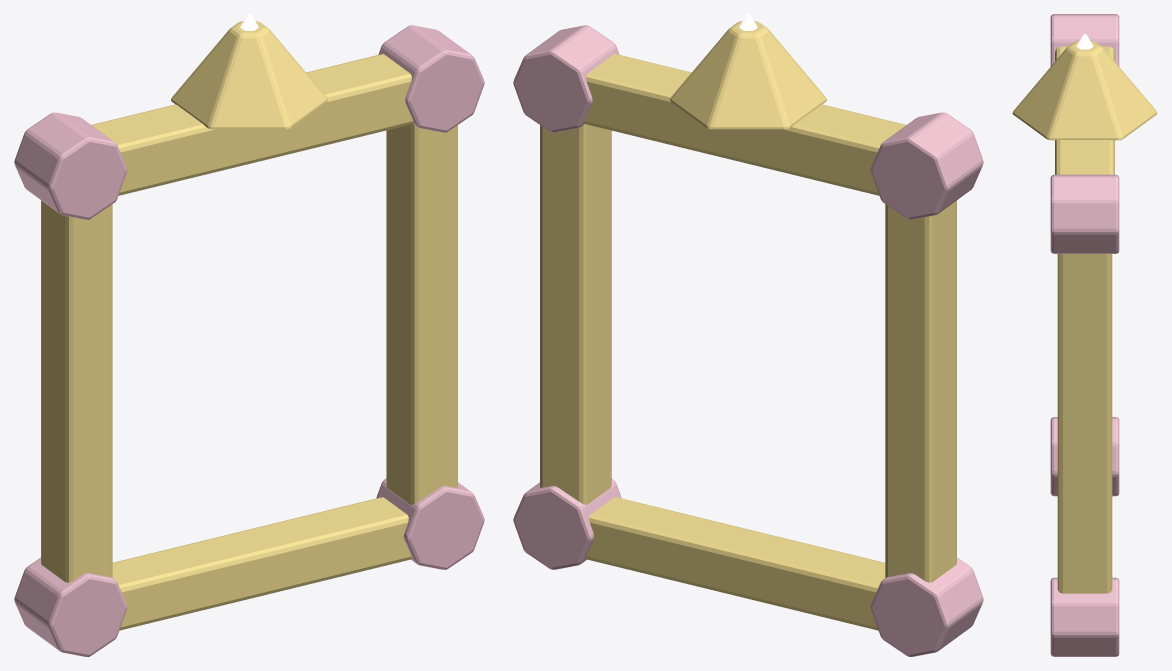
File: gilded_portal_frame.glb
3 renders of one model, left to right at view 1: azimuth 30°, elevation 25°; view 2: azimuth 150°, elevation 25°; view 3: azimuth 270°, elevation 25°, orthographic. The views are drawn at different scales.
Parts seen in each view (by area): view 1: BarR, BarL, BarBot, BarTop, Crest, Corner_-2.15_4.88, Corner_-2.15_-0.15, Corner_2.15_4.88, Corner_2.15_-0.15; view 2: BarR, BarL, BarBot, BarTop, Crest, Corner_-2.15_4.88, Corner_-2.15_-0.15, Corner_2.15_4.88, Corner_2.15_-0.15; view 3: BarR, Crest, Corner_2.15_4.88, Corner_2.15_-0.15, Corner_-2.15_4.88, BarTop, Corner_-2.15_-0.15.
Boxes of the visible parts, <box> form: BarR: <box>386,124,457,504</box>; BarL: <box>41,200,112,582</box>; BarBot: <box>112,497,411,630</box>; BarTop: <box>91,54,413,195</box>; Crest: <box>171,21,327,129</box>; Corner_-2.15_4.88: <box>14,112,127,219</box>; Corner_-2.15_-0.15: <box>14,557,127,656</box>; Corner_2.15_4.88: <box>378,25,484,132</box>; Corner_2.15_-0.15: <box>376,478,484,569</box>; BarR: <box>540,124,611,504</box>; BarL: <box>885,200,956,582</box>; BarBot: <box>586,497,885,630</box>; BarTop: <box>584,54,906,195</box>; Crest: <box>670,21,826,129</box>; Corner_-2.15_4.88: <box>870,112,983,219</box>; Corner_-2.15_-0.15: <box>870,557,983,656</box>; Corner_2.15_4.88: <box>513,25,619,132</box>; Corner_2.15_-0.15: <box>513,478,621,569</box>; BarR: <box>1057,254,1112,593</box>; Crest: <box>1012,40,1157,140</box>; Corner_2.15_4.88: <box>1050,174,1119,253</box>; Corner_2.15_-0.15: <box>1050,577,1119,656</box>; Corner_-2.15_4.88: <box>1050,14,1119,66</box>; BarTop: <box>1055,46,1114,174</box>; Corner_-2.15_-0.15: <box>1050,417,1119,496</box>.
Bounding box in the file's own units: 5.24 × 6.75 × 1.64.
